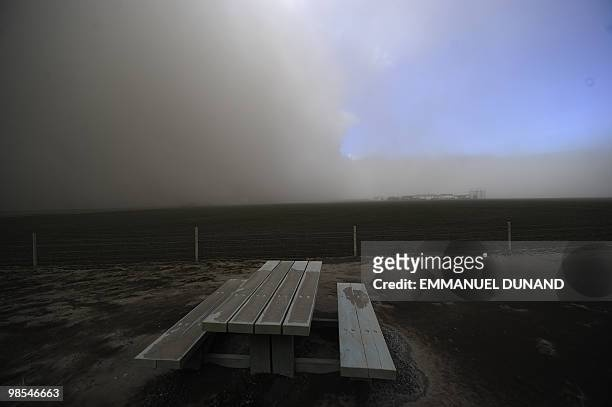obstacle: (136, 260, 335, 376), (337, 283, 395, 379)
